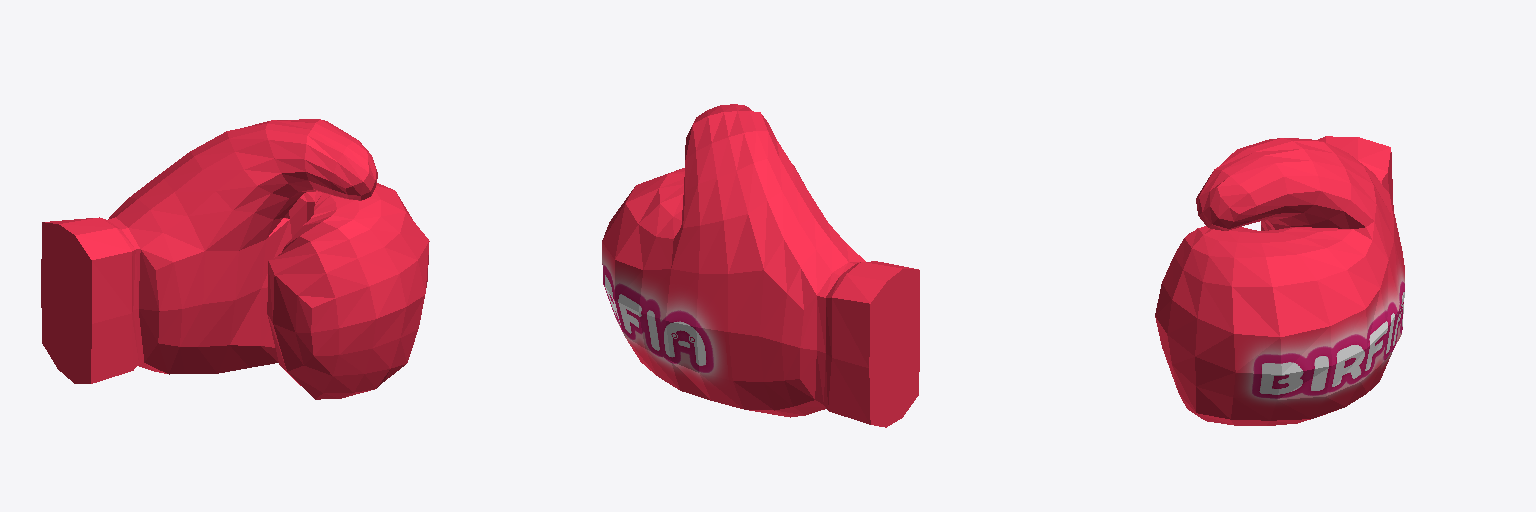
3 views of the same model, side by side, from view 1: azimuth 30°, elevation 25°; view 2: azimuth 150°, elevation 25°; view 3: azimuth 270°, elevation 25° (orthographic).
Parts seen in each view (by area): view 1: Fist group6; view 2: Fist group6; view 3: Fist group6.
Part boxes in pixels (left/top/right/bottom): Fist group6: left=41, top=119, right=429, bottom=399; Fist group6: left=602, top=104, right=919, bottom=427; Fist group6: left=1155, top=136, right=1404, bottom=425.
Bounding box in the file's own units: 0.5732 × 0.4358 × 0.3927.
1 materials, 1 textured.